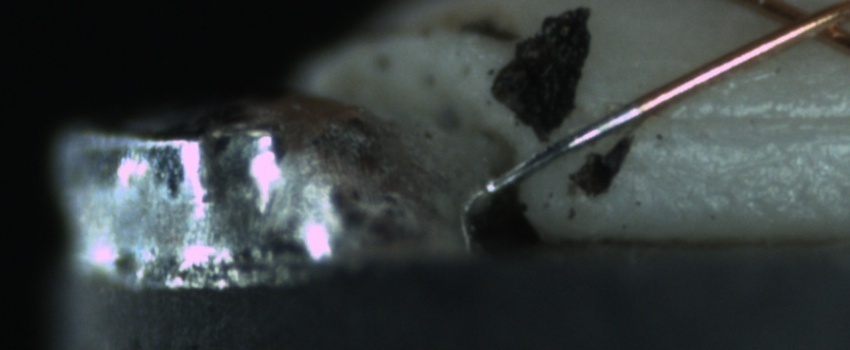CL: (758, 1, 847, 48)
DL: (641, 85, 843, 159)
TS: (484, 101, 643, 200)
TTCW: (480, 92, 659, 199)
